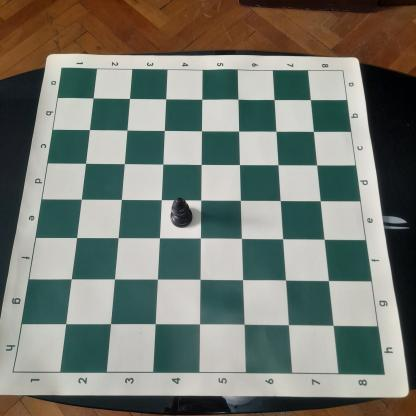black-bishop: (169, 197, 194, 229)
